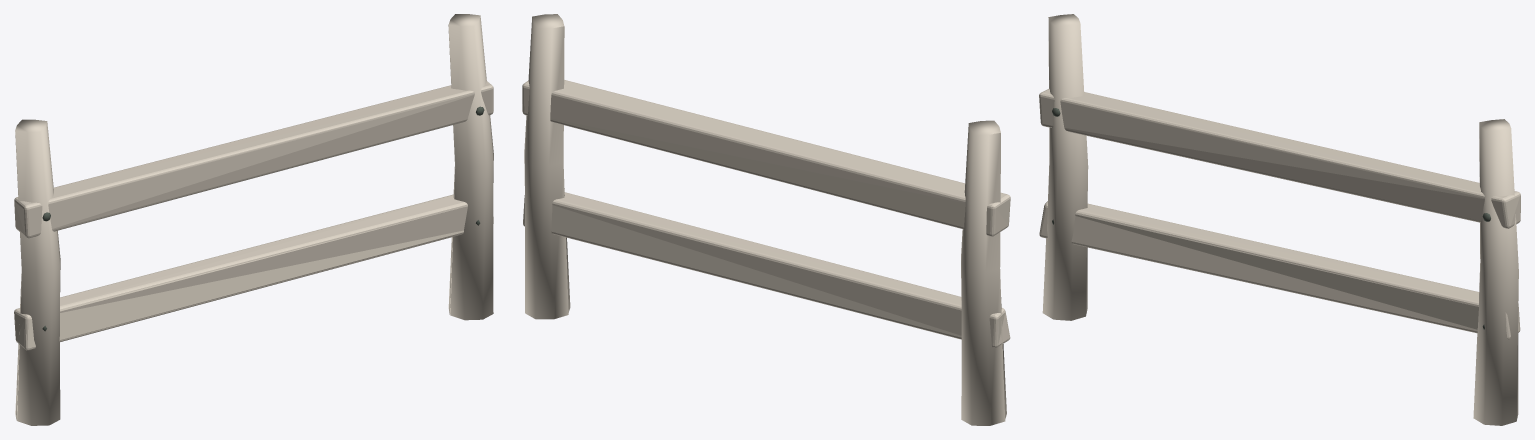
The model's file is SM_WLA_Fence_B.fbx.
3 renders of one model, left to right at view 1: azimuth 30°, elevation 25°; view 2: azimuth 150°, elevation 25°; view 3: azimuth 330°, elevation 25°, orthographic.
Visible parts, largest first — view 1: SM_WLA_Fence_B; view 2: SM_WLA_Fence_B; view 3: SM_WLA_Fence_B.
Boxes of the visible parts, x1,y1,x2,y2 form: SM_WLA_Fence_B: [14, 14, 493, 425]; SM_WLA_Fence_B: [522, 14, 1010, 425]; SM_WLA_Fence_B: [1039, 14, 1520, 425].
Size of what is drawn, in the model's own units: 0.1725 by 1.98 by 1.16.
